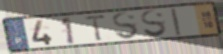1: (59, 15, 78, 45)
4: (31, 19, 54, 47)
I: (170, 7, 183, 37)
S: (111, 11, 141, 41), (139, 9, 169, 39)
T: (83, 14, 108, 43)
